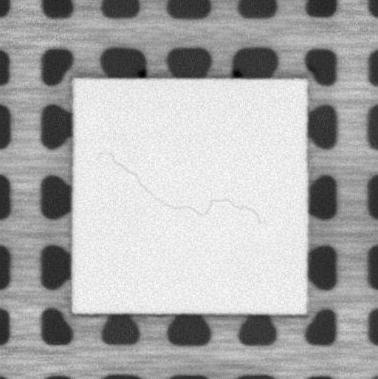DIE_CRACK: (103, 148, 261, 224)
